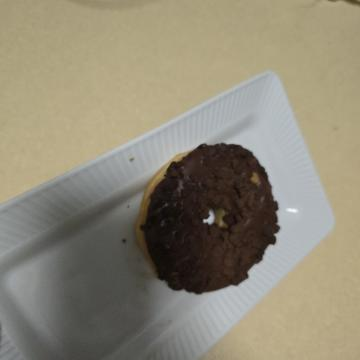doughnut: (122, 70, 306, 233)
